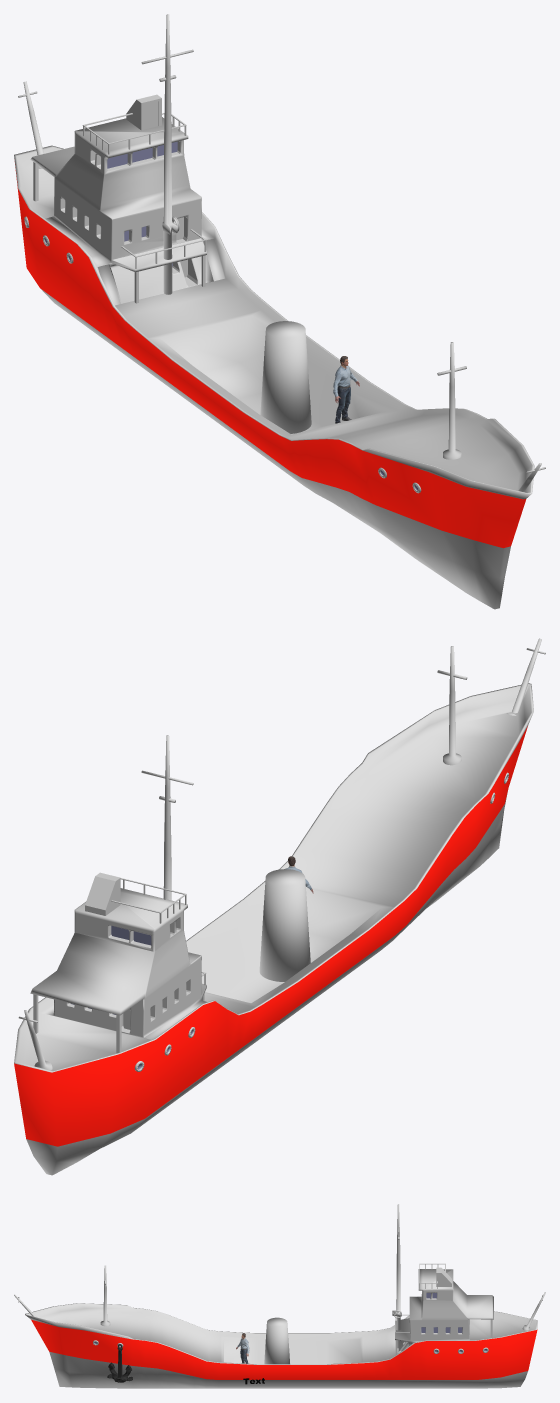
File: D4_Ship2.glb
3 views of the same model, one above another, from view 1: azimuth 30°, elevation 25°; view 2: azimuth 150°, elevation 25°; view 3: azimuth 270°, elevation 25° (orthographic). The views are drawn at different scales.
Parts seen in each view (by area): view 1: Object_6, Object_2, Cylinder, Object_2.001, Object_4; view 2: Object_6, Object_2, Cylinder; view 3: Object_6, Object_2, Cylinder, osnova_low, Object_2.001.
Boxes of the visible parts, x1,y1,x2,y2 form: Object_6: (14,14,545,609); Object_2: (15,164,526,548); Cylinder: (260,321,311,433); Object_2.001: (333,356,359,423); Object_4: (26,141,418,490); Object_6: (14,638,545,1175); Object_2: (14,726,527,1146); Cylinder: (259,869,310,981); Object_6: (14,1204,545,1388); Object_2: (31,1319,537,1379); Cylinder: (264,1317,289,1364); osnova_low: (107,1362,132,1382); Object_2.001: (236,1333,249,1363).
Bounding box in the file's own units: 6.75 × 16.34 × 43.39.
7 materials, 1 textured.
